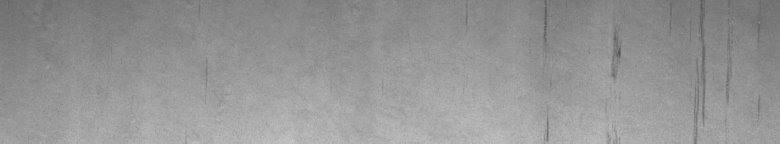ka: (692, 4, 760, 136)
